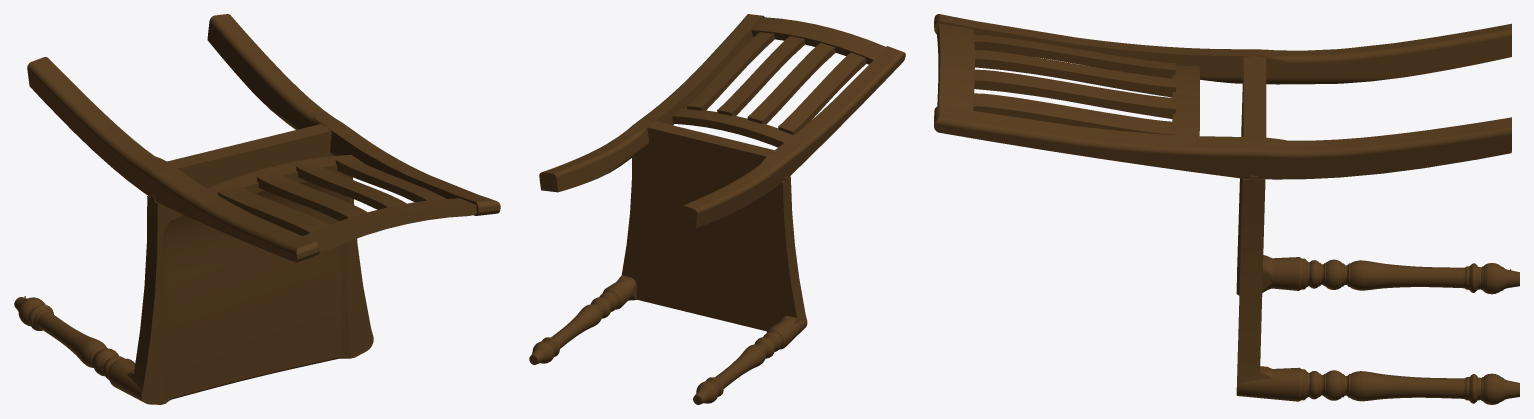
File: Traditional Turned Leg Chair.obj
3 views of the same model, side by side, from view 1: azimuth 30°, elevation 25°; view 2: azimuth 150°, elevation 25°; view 3: azimuth 270°, elevation 25° (orthographic). The views are drawn at different scales.
Visible parts, largest first — view 1: Body2 (1), Body3:1, Body3, Body11, Body64, Body54, Body55, Body57, Body59, Body66, Body1; view 2: Body2 (1), Body3:1, Body3, Body11, Body1, Body64, Body54, Body66, Body55, Body57, Body59; view 3: Body3, Body3:1, Body1, Body2 (1), Body11, Body57, Body55, Body59, Body54, Body64, Body66.
Boxes of the visible parts, x1,y1,x2,y2 form: Body2 (1): (134, 124, 370, 403); Body3:1: (27, 57, 319, 262); Body3: (207, 14, 500, 215); Body11: (14, 297, 163, 404); Body64: (303, 198, 476, 252); Body54: (218, 184, 328, 236); Body55: (257, 171, 367, 220); Body57: (296, 163, 406, 209); Body59: (335, 158, 445, 202); Body66: (207, 155, 363, 194); Body1: (351, 326, 373, 358); Body2 (1): (621, 121, 804, 331); Body3:1: (678, 46, 905, 227); Body3: (539, 14, 764, 192); Body11: (693, 312, 807, 404); Body1: (529, 275, 636, 364); Body64: (751, 17, 885, 64); Body54: (778, 51, 866, 134); Body66: (672, 108, 794, 147); Body55: (747, 43, 835, 124); Body57: (717, 36, 804, 115); Body59: (687, 32, 774, 110); Body3: (934, 105, 1511, 179); Body3:1: (934, 14, 1511, 84); Body1: (1236, 366, 1519, 404); Body2 (1): (1236, 55, 1266, 387); Body11: (1236, 255, 1519, 294); Body57: (974, 69, 1176, 118); Body55: (974, 50, 1176, 97); Body59: (973, 93, 1175, 134); Body54: (974, 34, 1175, 78); Body64: (937, 23, 974, 110); Body66: (1172, 65, 1199, 136).
Bounding box in the file's own units: 48.27 × 52.39 × 95.51.
